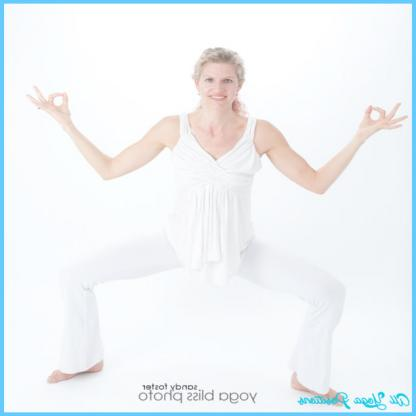godness: (15, 42, 412, 407)
